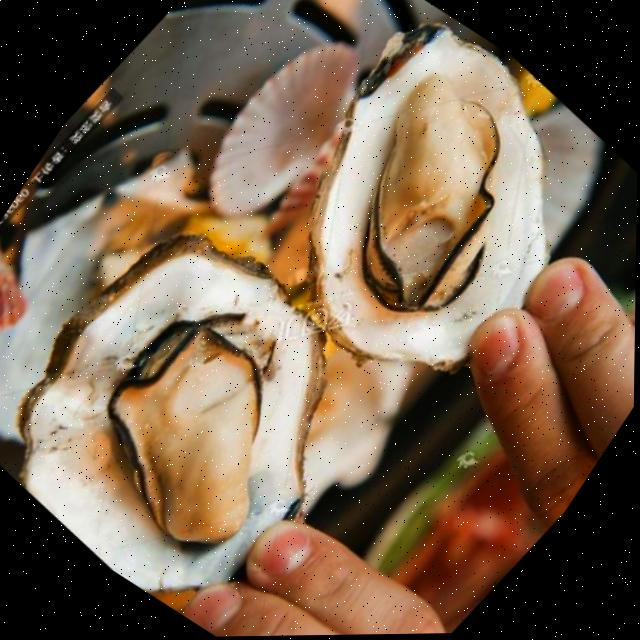Oyster-Open: (4, 234, 327, 592), (311, 24, 546, 373)
